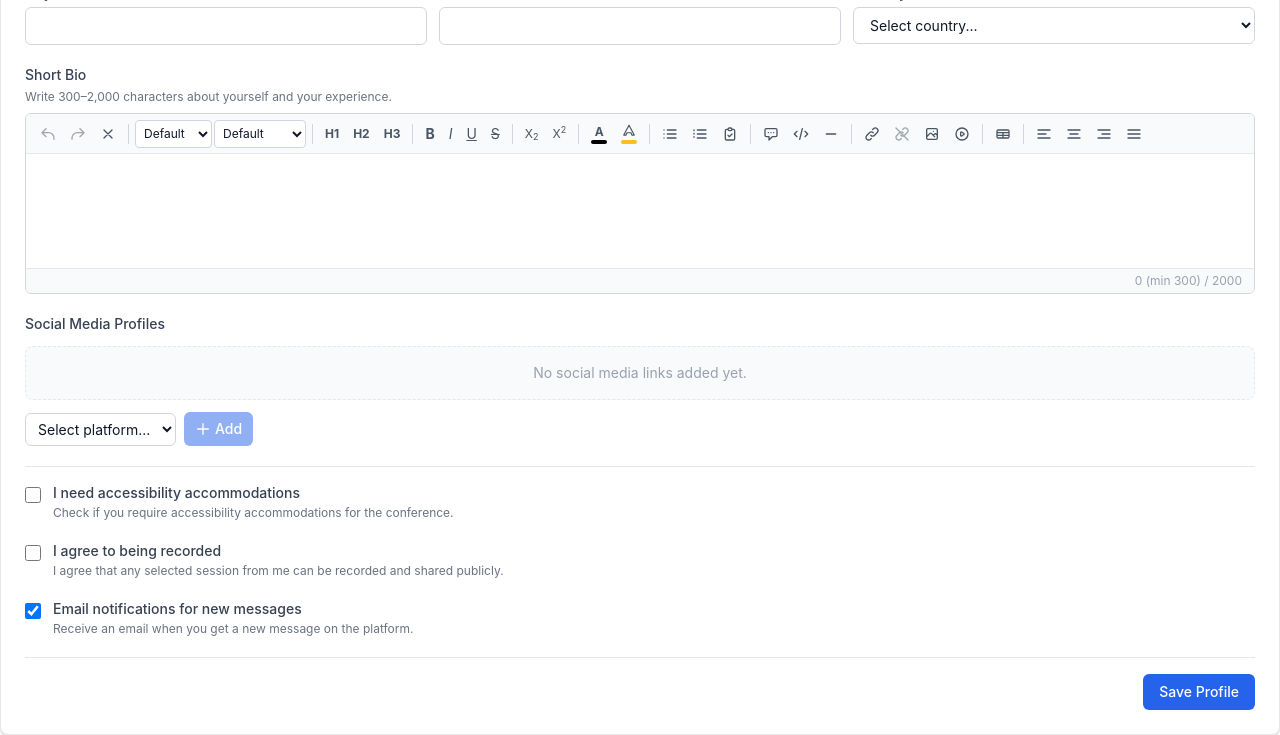
Scenario: ProfilePage › social links › adds a social link row when a platform is selected and Add is clicked
(page scrolled)
Select "Twitter/X" in the dropdown named "select platform": (100, 429) [25,412,176,446]
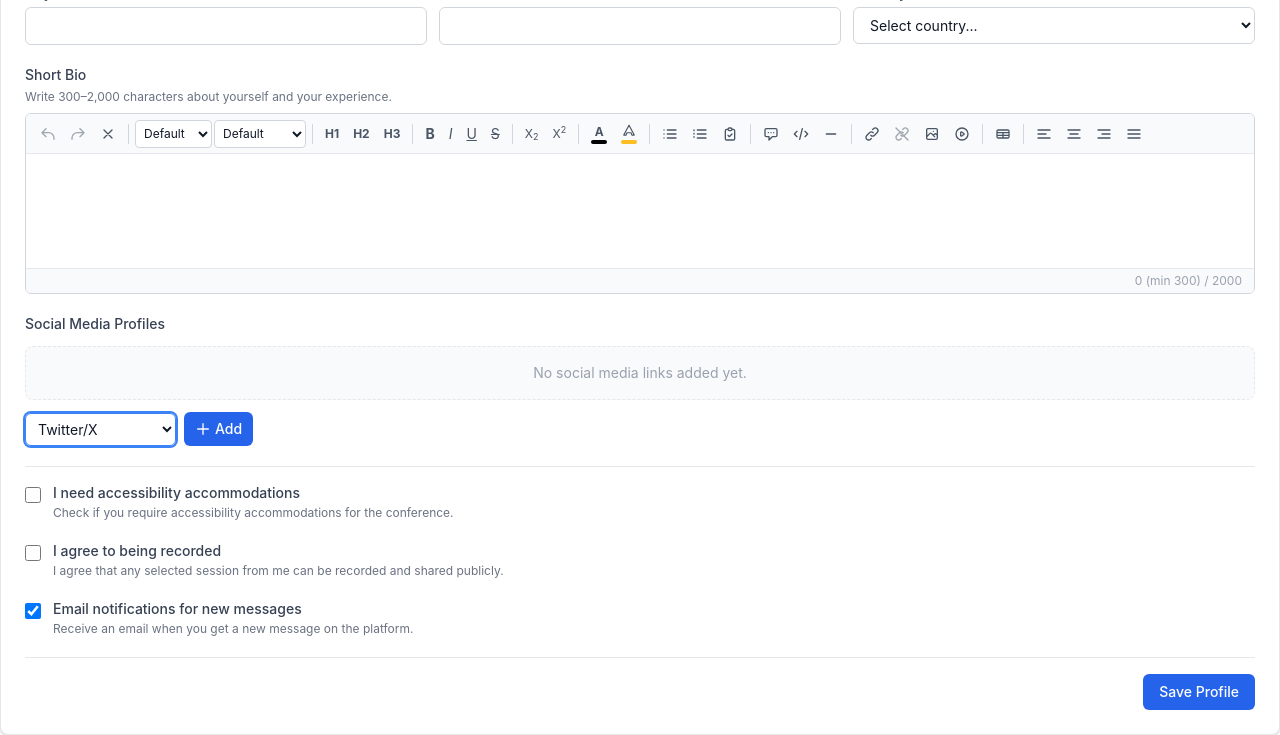
Click the button "Add": (219, 429) [184,412,253,446]
(page scrolled)
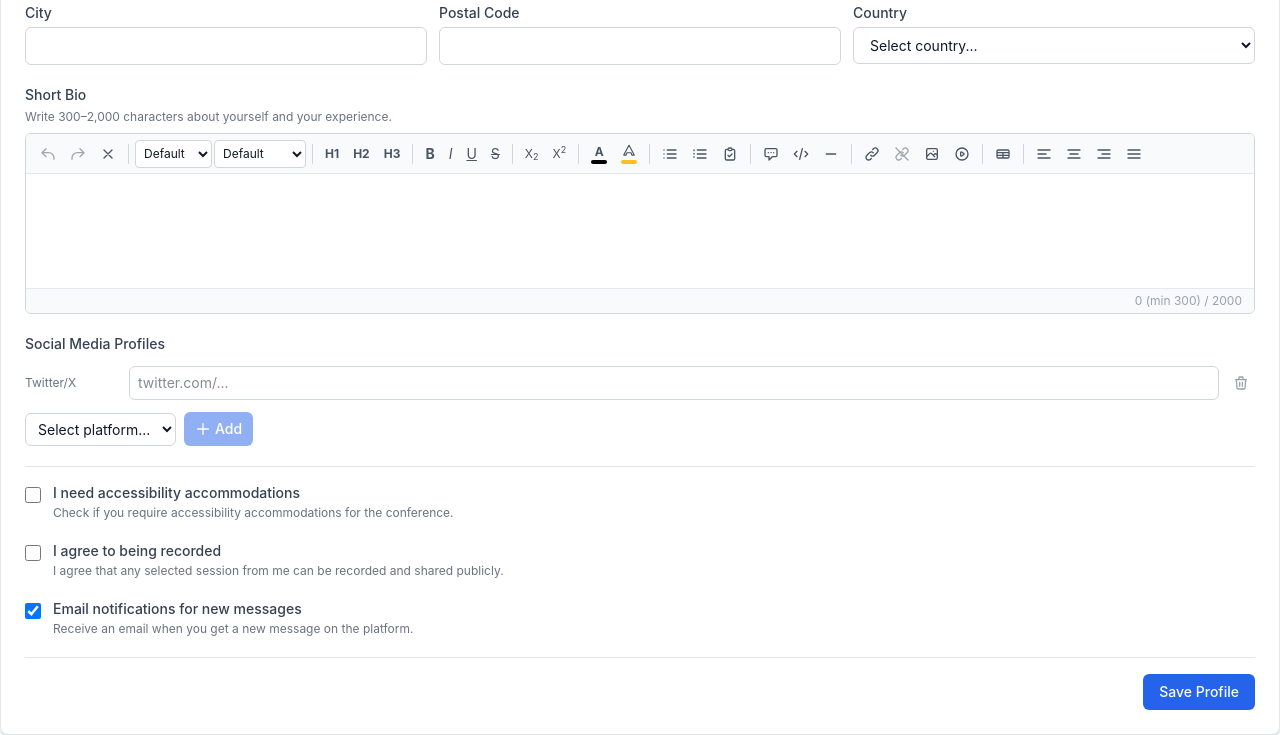
Now the field with placeholder "twitter.com/..." is shown, box [129,366,1219,400]
